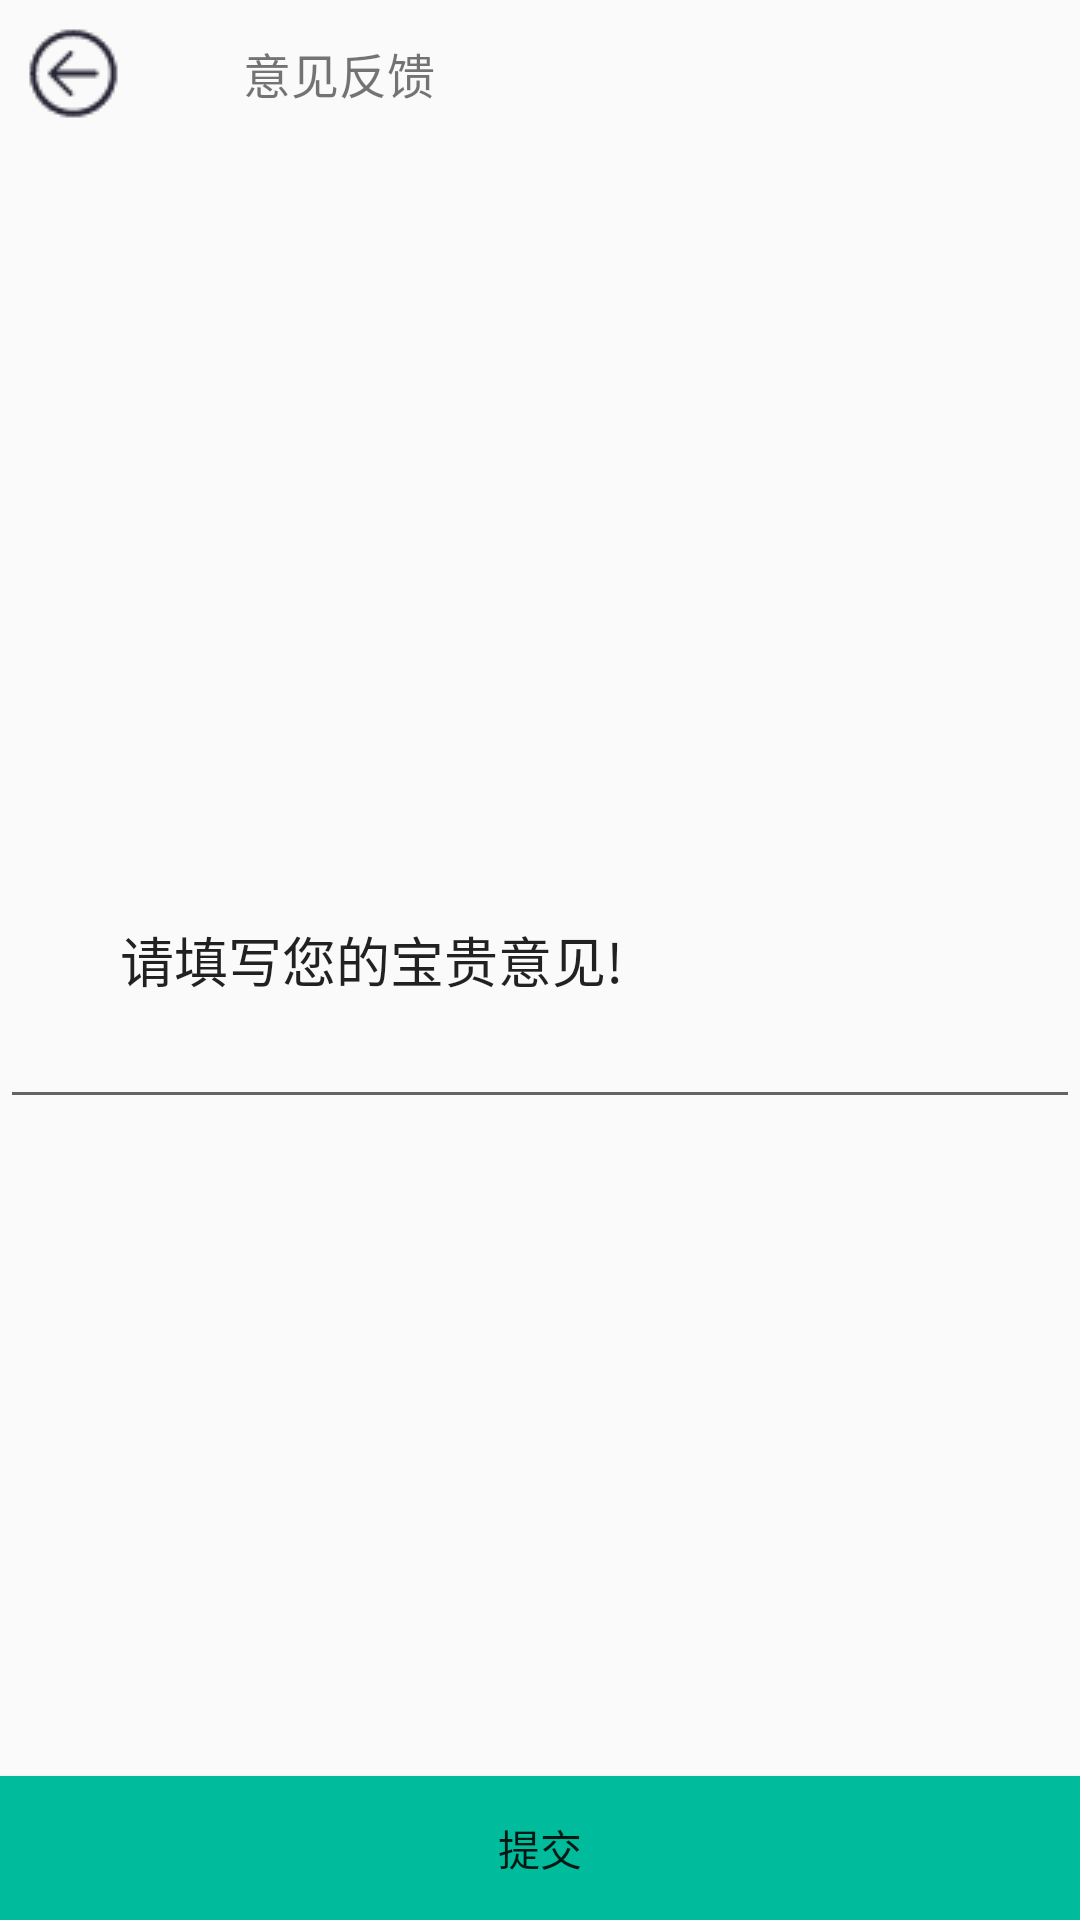

Icons on this 1080x1920 Android screen, each with the point to tap as point (x, y):
back: point (73, 73)
